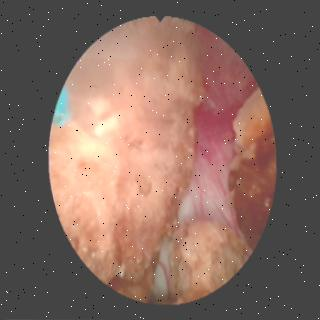stone: (51, 18, 200, 299), (228, 89, 271, 247), (168, 221, 244, 300)
